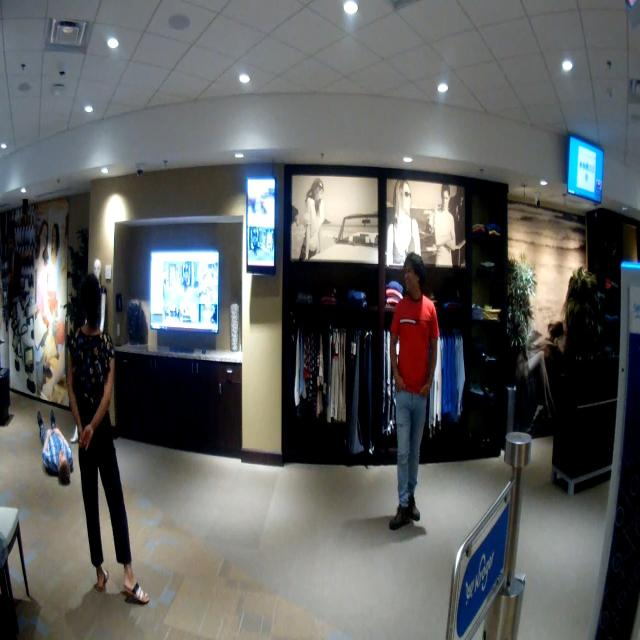fall: (28, 398, 79, 491)
normal: (66, 286, 166, 624), (384, 244, 442, 564)
